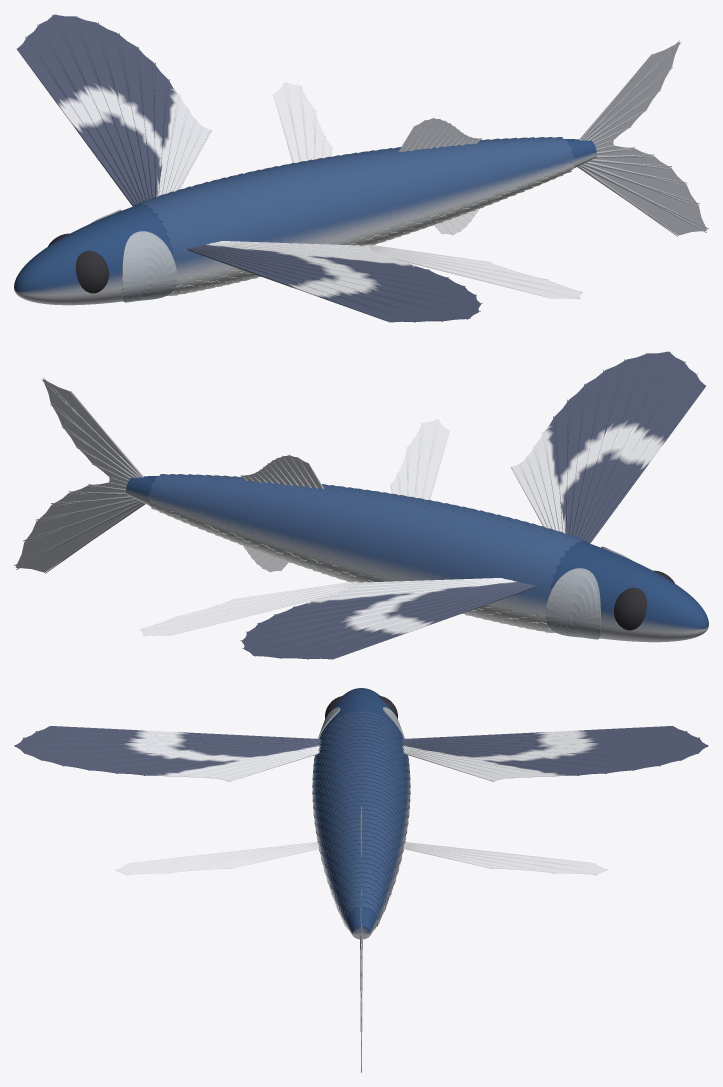
Rendered from fish-adult-fao.glb.
The picture shows the model from 3 angles, top to bottom: view 1: azimuth 30°, elevation 25°; view 2: azimuth 150°, elevation 25°; view 3: azimuth 270°, elevation 25°; orthographic projection. The views are drawn at different scales.
Parts seen in each view (by area): view 1: scales, pectoral_L, pectoral_R, caudal, body, pelvic_R, operculum_R, pelvic_L, dorsal, eye_R, anal; view 2: scales, pectoral_R, pectoral_L, caudal, body, pelvic_L, operculum_L, pelvic_R, dorsal, eye_L, anal; view 3: scales, pectoral_L, pectoral_R, body, pelvic_L, pelvic_R.
Part boxes in pixels (<box>): scales: <box>133,137,574,295</box>; pectoral_L: <box>17,14,211,206</box>; pectoral_R: <box>187,241,482,322</box>; caudal: <box>577,40,708,236</box>; body: <box>14,139,596,305</box>; pelvic_R: <box>364,244,583,299</box>; operculum_R: <box>122,231,177,302</box>; pelvic_L: <box>273,82,332,162</box>; dorsal: <box>399,118,482,151</box>; eye_R: <box>75,250,108,293</box>; anal: <box>434,208,479,235</box>; scales: <box>148,474,589,632</box>; pectoral_R: <box>511,351,705,543</box>; pectoral_L: <box>240,578,535,659</box>; caudal: <box>14,377,145,573</box>; body: <box>126,476,708,642</box>; pelvic_L: <box>139,581,358,636</box>; operculum_L: <box>545,568,600,639</box>; pelvic_R: <box>390,419,449,499</box>; dorsal: <box>240,455,323,488</box>; eye_L: <box>614,587,647,630</box>; anal: <box>243,545,288,572</box>; scales: <box>312,711,410,929</box>; pectoral_L: <box>401,726,708,781</box>; pectoral_R: <box>14,726,321,781</box>; body: <box>314,688,408,939</box>; pelvic_L: <box>404,842,607,875</box>; pelvic_R: <box>115,842,318,875</box>.
Size of the model in its own units: 0.1912 by 0.0525 by 0.1988.
